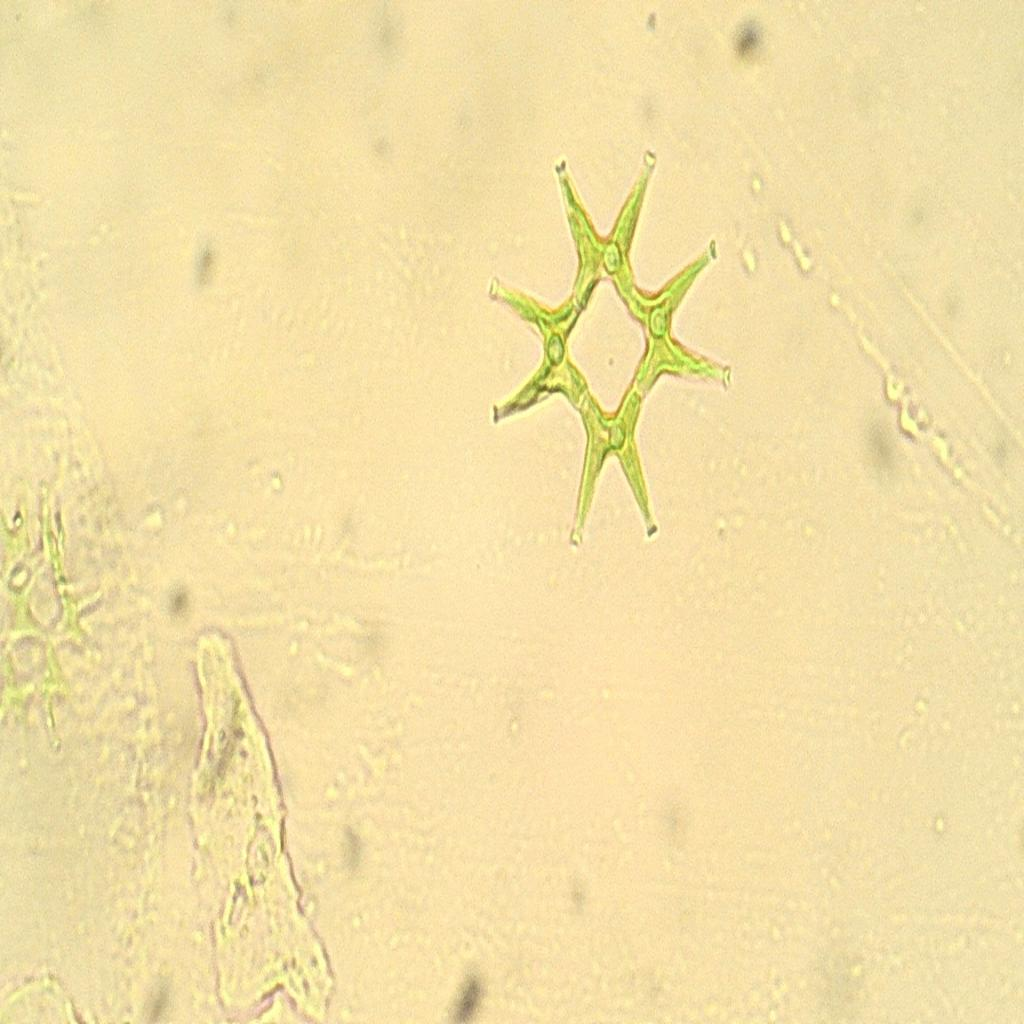Pediastrum_CO: (468, 138, 746, 577)
